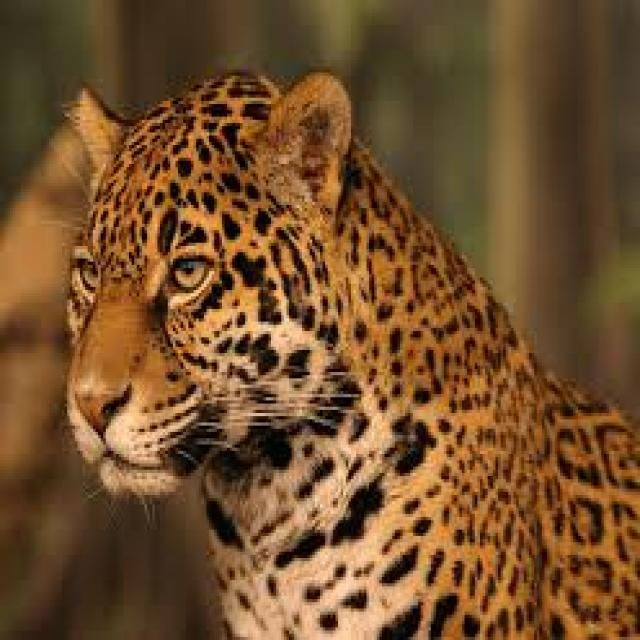Jaguar: (70, 107, 627, 640)
